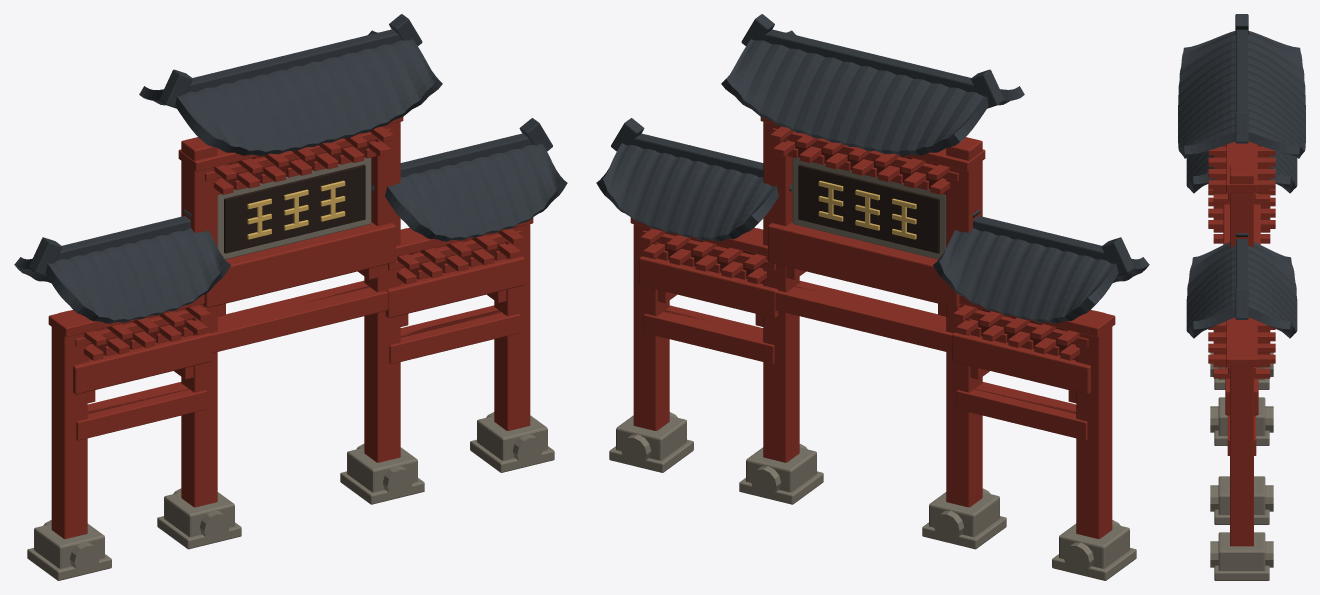
Rendered from paifang.glb.
3 renders of one model, left to right at view 1: azimuth 30°, elevation 25°; view 2: azimuth 150°, elevation 25°; view 3: azimuth 270°, elevation 25°, orthographic. The views are drawn at different scales.
Visible parts, largest first — view 1: paifang; view 2: paifang; view 3: paifang.
Part boxes in pixels (x1,y1,x2,y2): paifang: [14, 14, 567, 580]; paifang: [596, 14, 1149, 580]; paifang: [1178, 14, 1305, 580].
Bounding box in the file's own units: 8.77 × 7.53 × 2.13.
